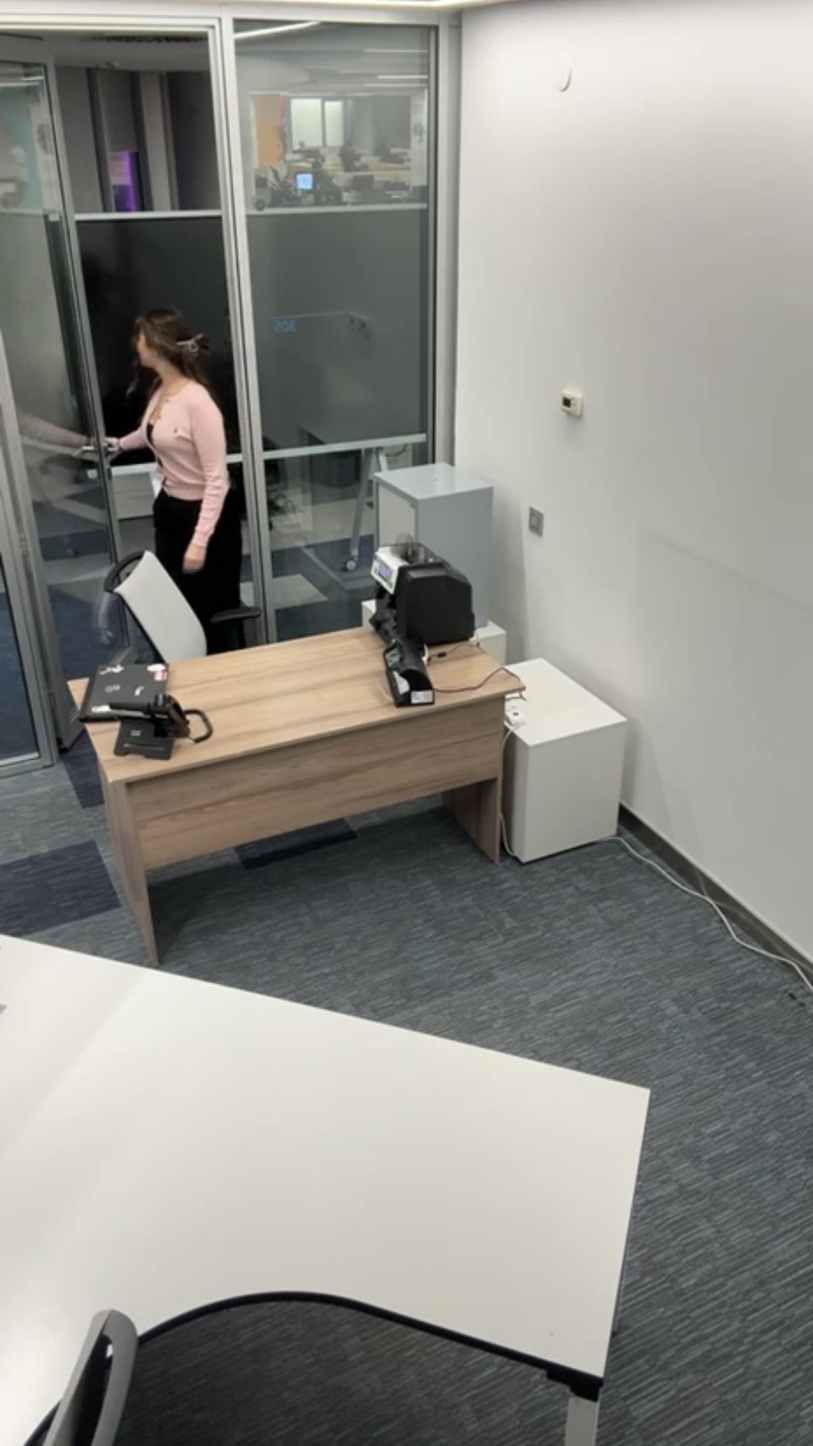counter: (367, 540, 472, 651)
door_open: (2, 35, 269, 626)
uv_lamp: (380, 641, 431, 717)
